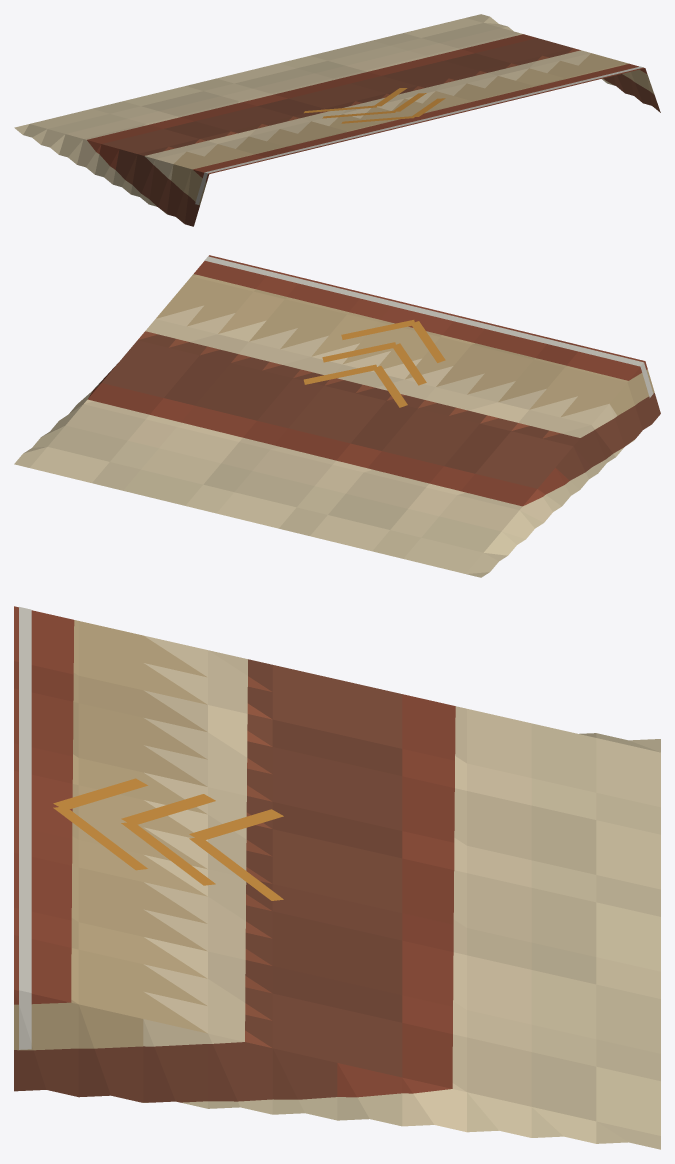
The model's file is dam_shelf_lip.glb.
3 renders of one model, top to bottom at view 1: azimuth 30°, elevation 25°; view 2: azimuth 150°, elevation 25°; view 3: azimuth 270°, elevation 25°, orthographic. The views are drawn at different scales.
Visible parts, largest first — view 1: dam_shelf_lip; view 2: dam_shelf_lip; view 3: dam_shelf_lip.
Boxes of the visible parts, box(x1,y1,x2,y2) form: dam_shelf_lip: box(14, 14, 660, 226); dam_shelf_lip: box(14, 255, 660, 577); dam_shelf_lip: box(14, 606, 660, 1149).
Bounding box in the file's own units: 30 × 5.04 × 20.
